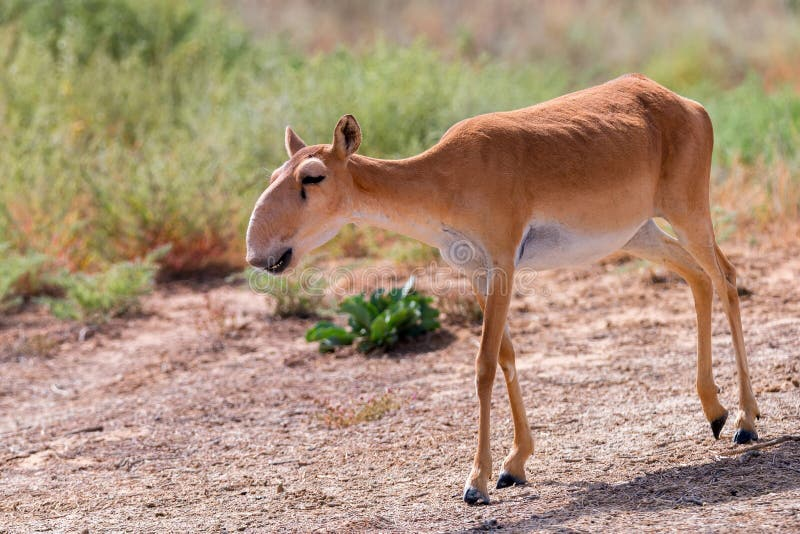saiga: (238, 70, 760, 502)
